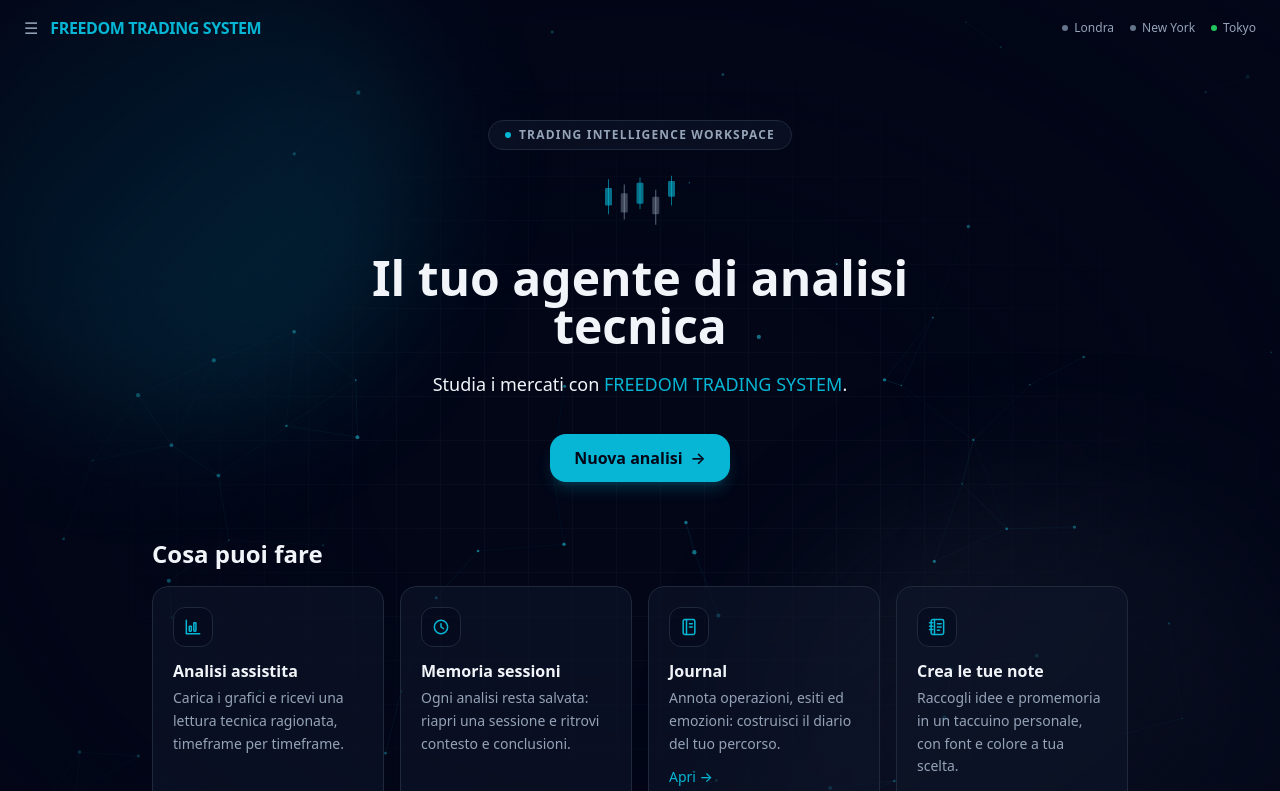
it: Home (landing immersiva) › mantiene lo storico accessibile dal menu laterale
Click the button named "Apri menu" at [31, 28], box [24, 16, 38, 40]
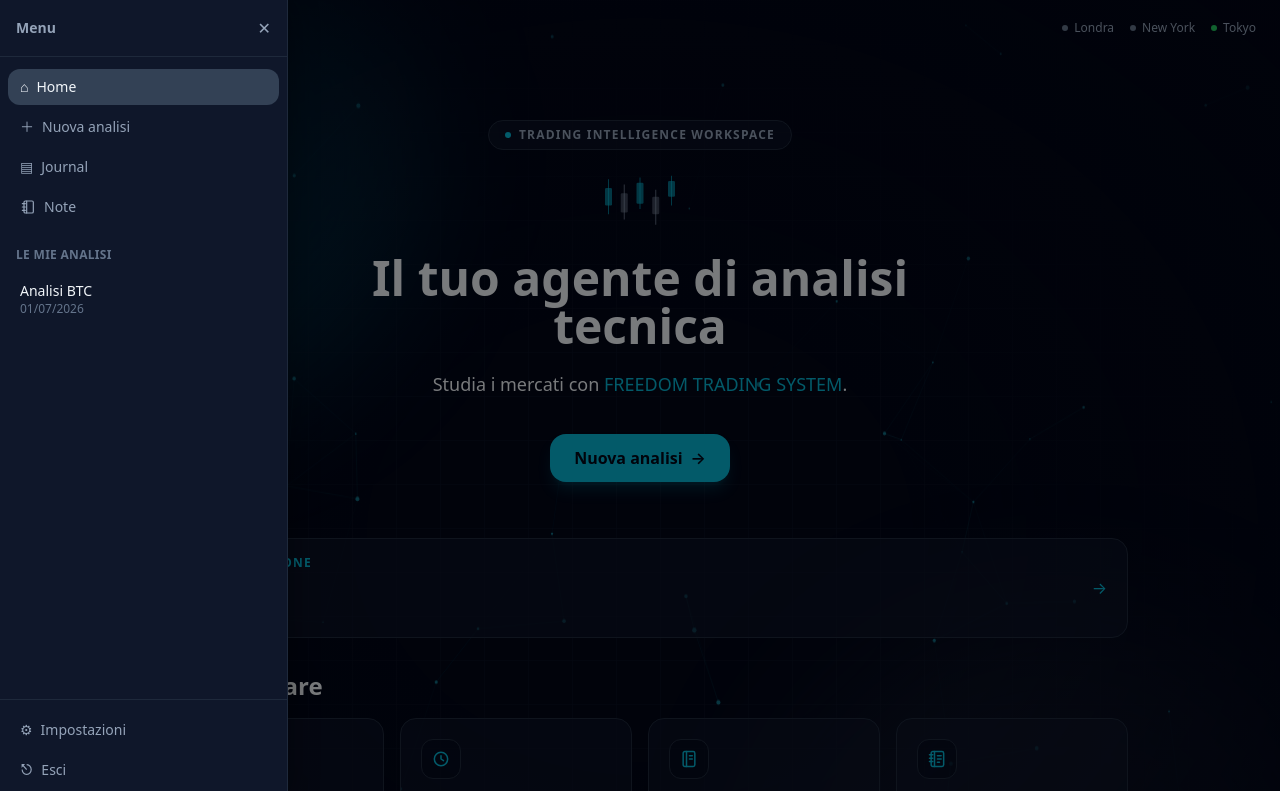
Expected: the text "Analisi BTC" is shown, [20, 281, 92, 300]
